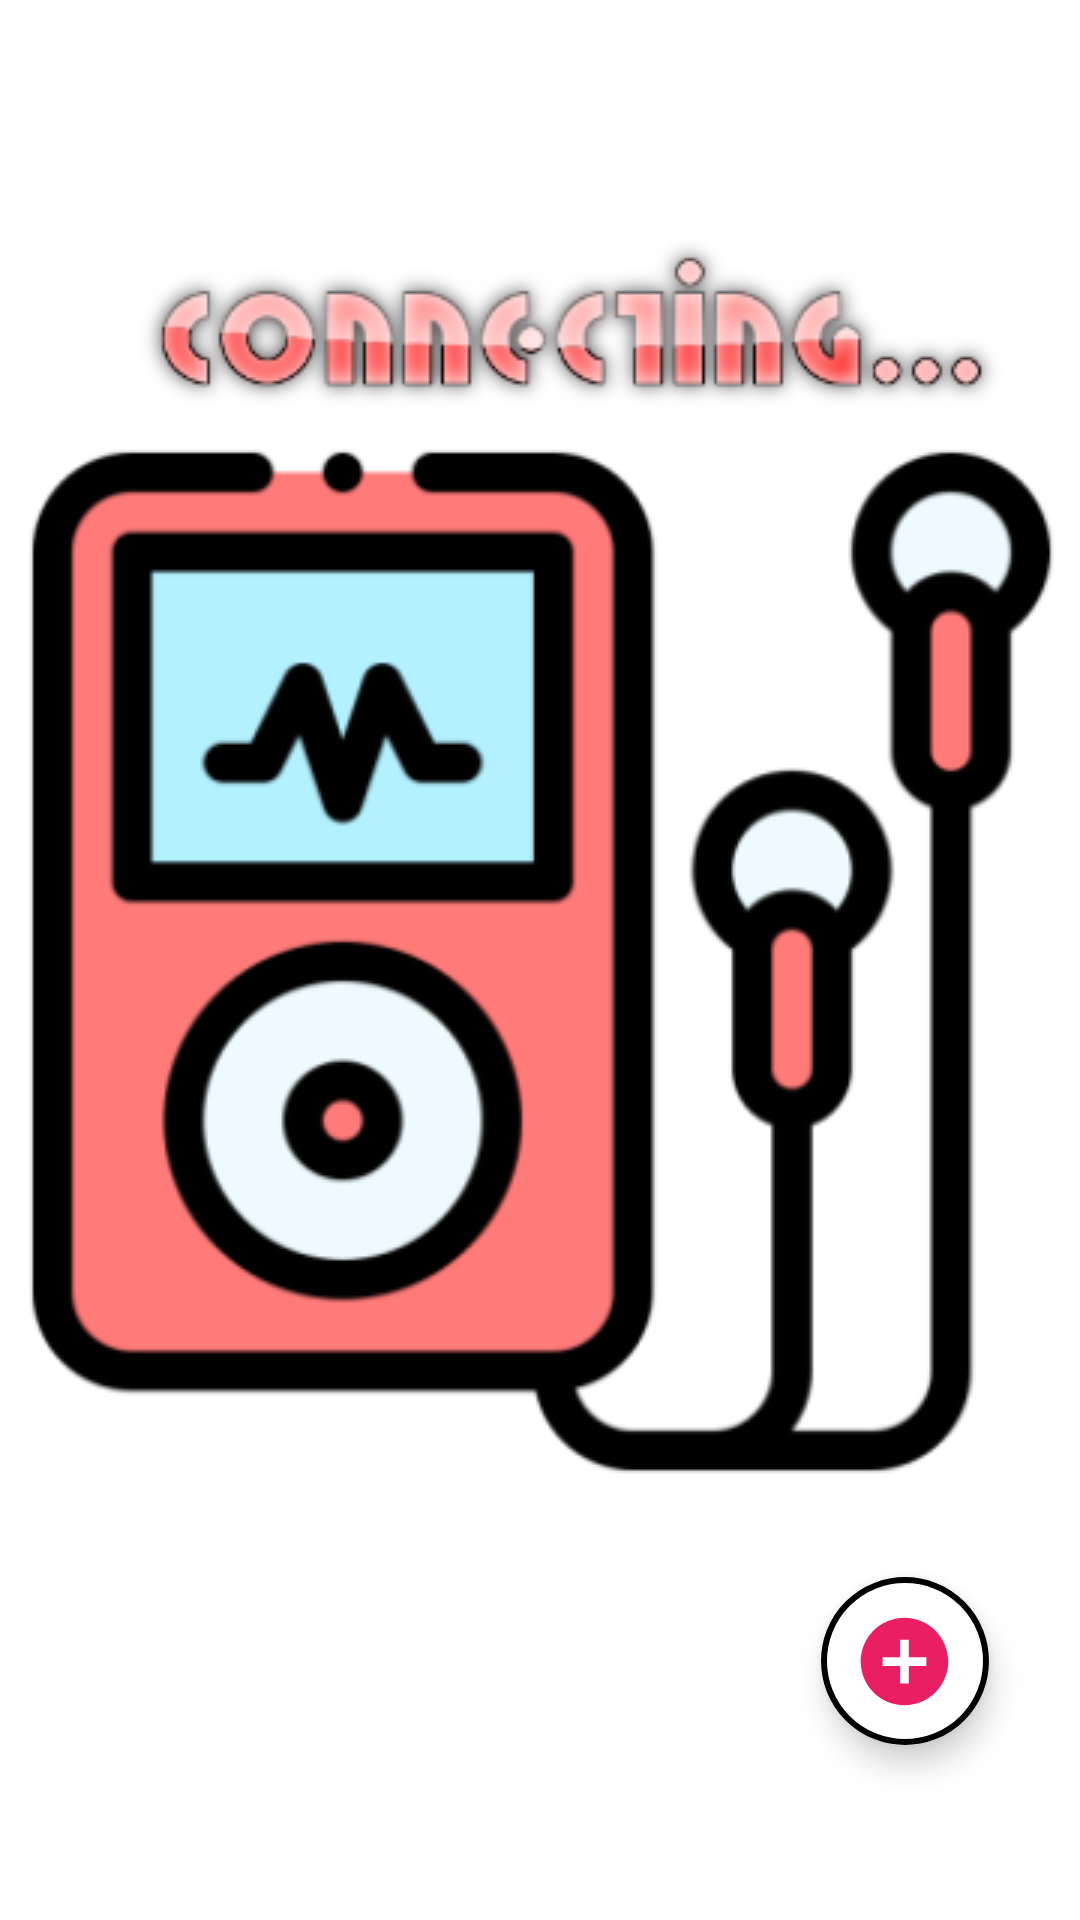

Screen size 1080×1920. Icon name, then its center in pixels as (x=x, y=y):
add: (x=904, y=1661)
